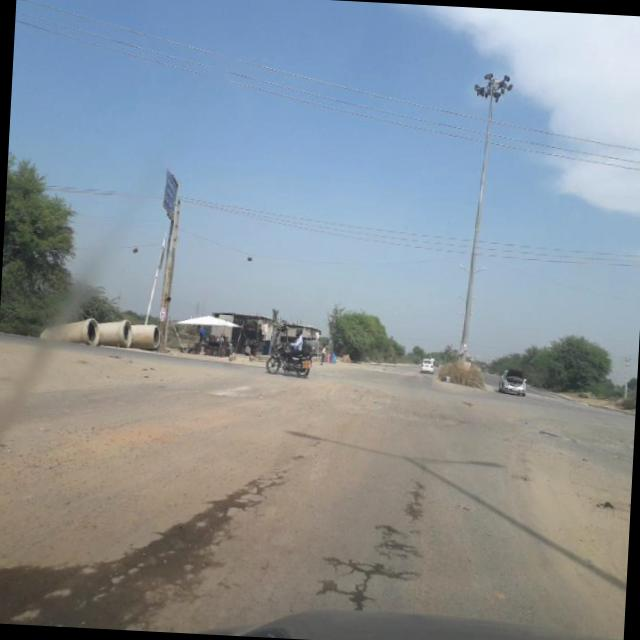crack: (310, 474, 443, 624), (217, 456, 297, 516)
